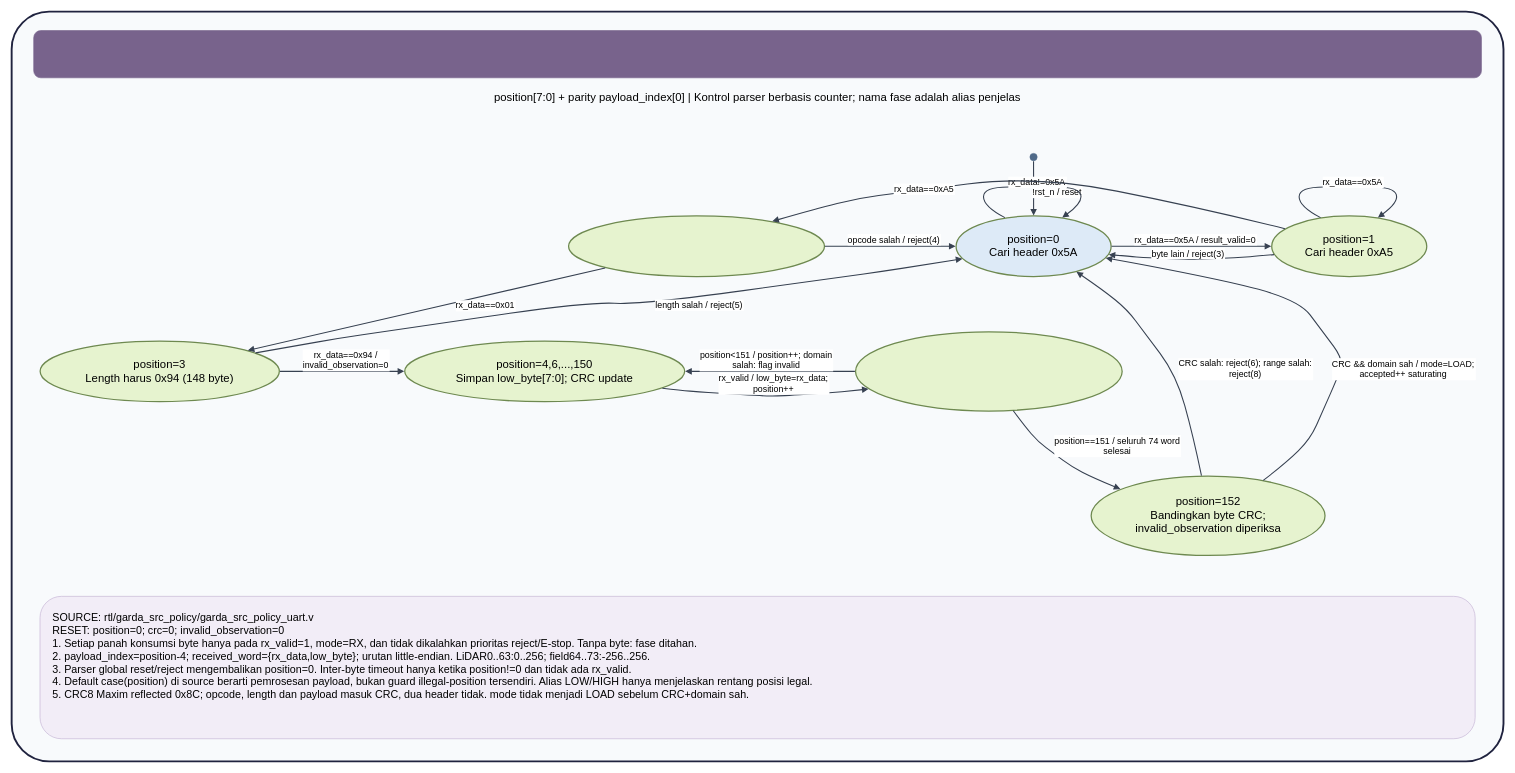
Some shapes in this 1515 by 773 pixel diagram are drawn without their labels. Each missing label, with the box of its shape:
PARSER OBSERVASI — HEADER, PAYLOAD, CRC: (33, 30, 1481, 78)
position=2 Opcode harus 0x01; mulai CRC: (568, 215, 825, 277)
position=5,7,...,151 Simpan received_word[15:0]; cek domain; CRC update: (855, 331, 1122, 411)
